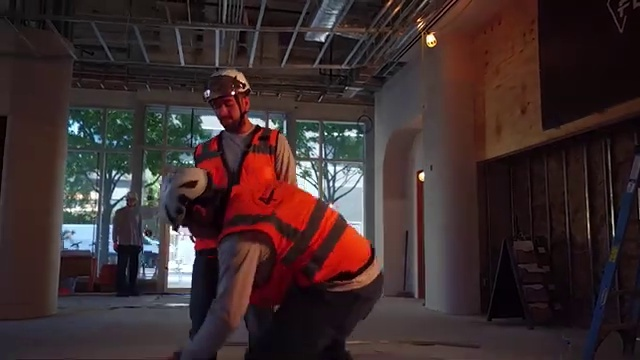helmet: (157, 163, 213, 230), (202, 67, 250, 99)
jacket: (224, 179, 373, 294), (191, 128, 300, 181)
